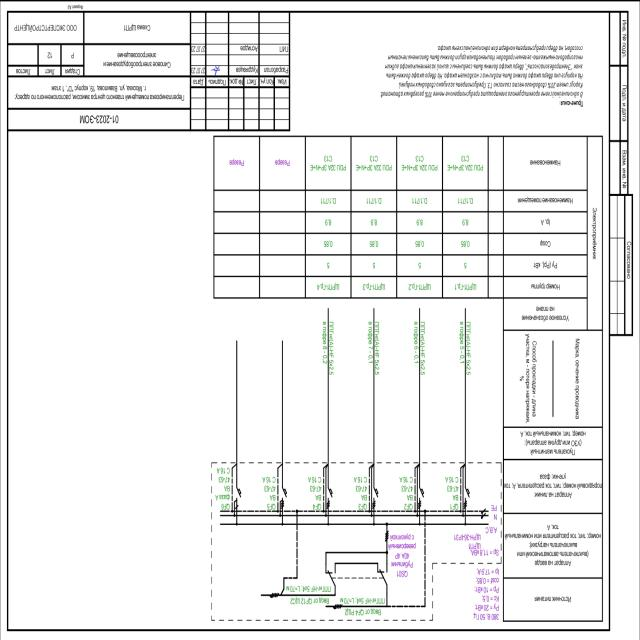-: (388, 530, 418, 568), (399, 474, 414, 500), (262, 474, 276, 500), (216, 465, 230, 491), (353, 474, 367, 500), (444, 474, 458, 500), (307, 474, 321, 499), (453, 532, 482, 540)
QF: (462, 484, 472, 508), (372, 485, 381, 510), (418, 484, 427, 509), (280, 484, 288, 510), (326, 484, 334, 509), (235, 485, 242, 509)
switch: (325, 566, 388, 584)
